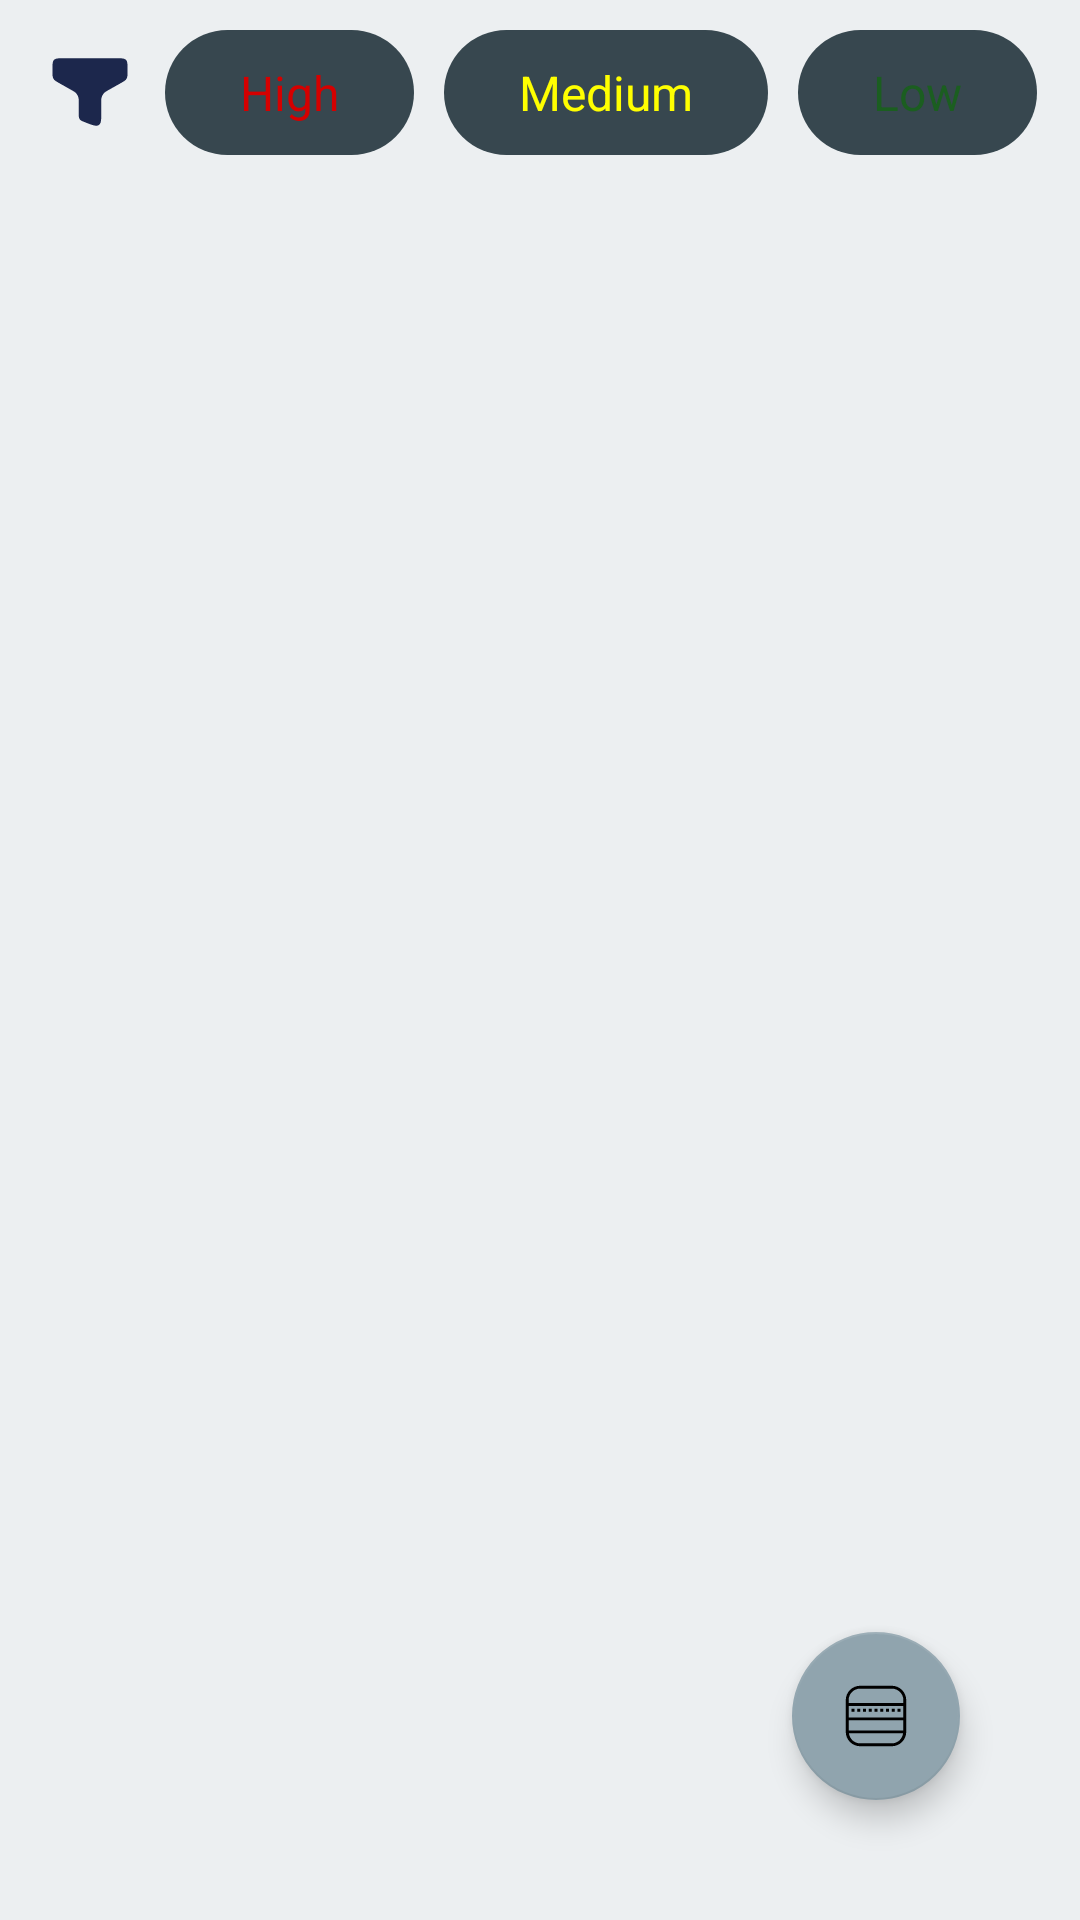

Icons on this 1080 x 1920 Android screen, each with the point to tap as point (x, y):
filteringsvg: point (90, 92)
